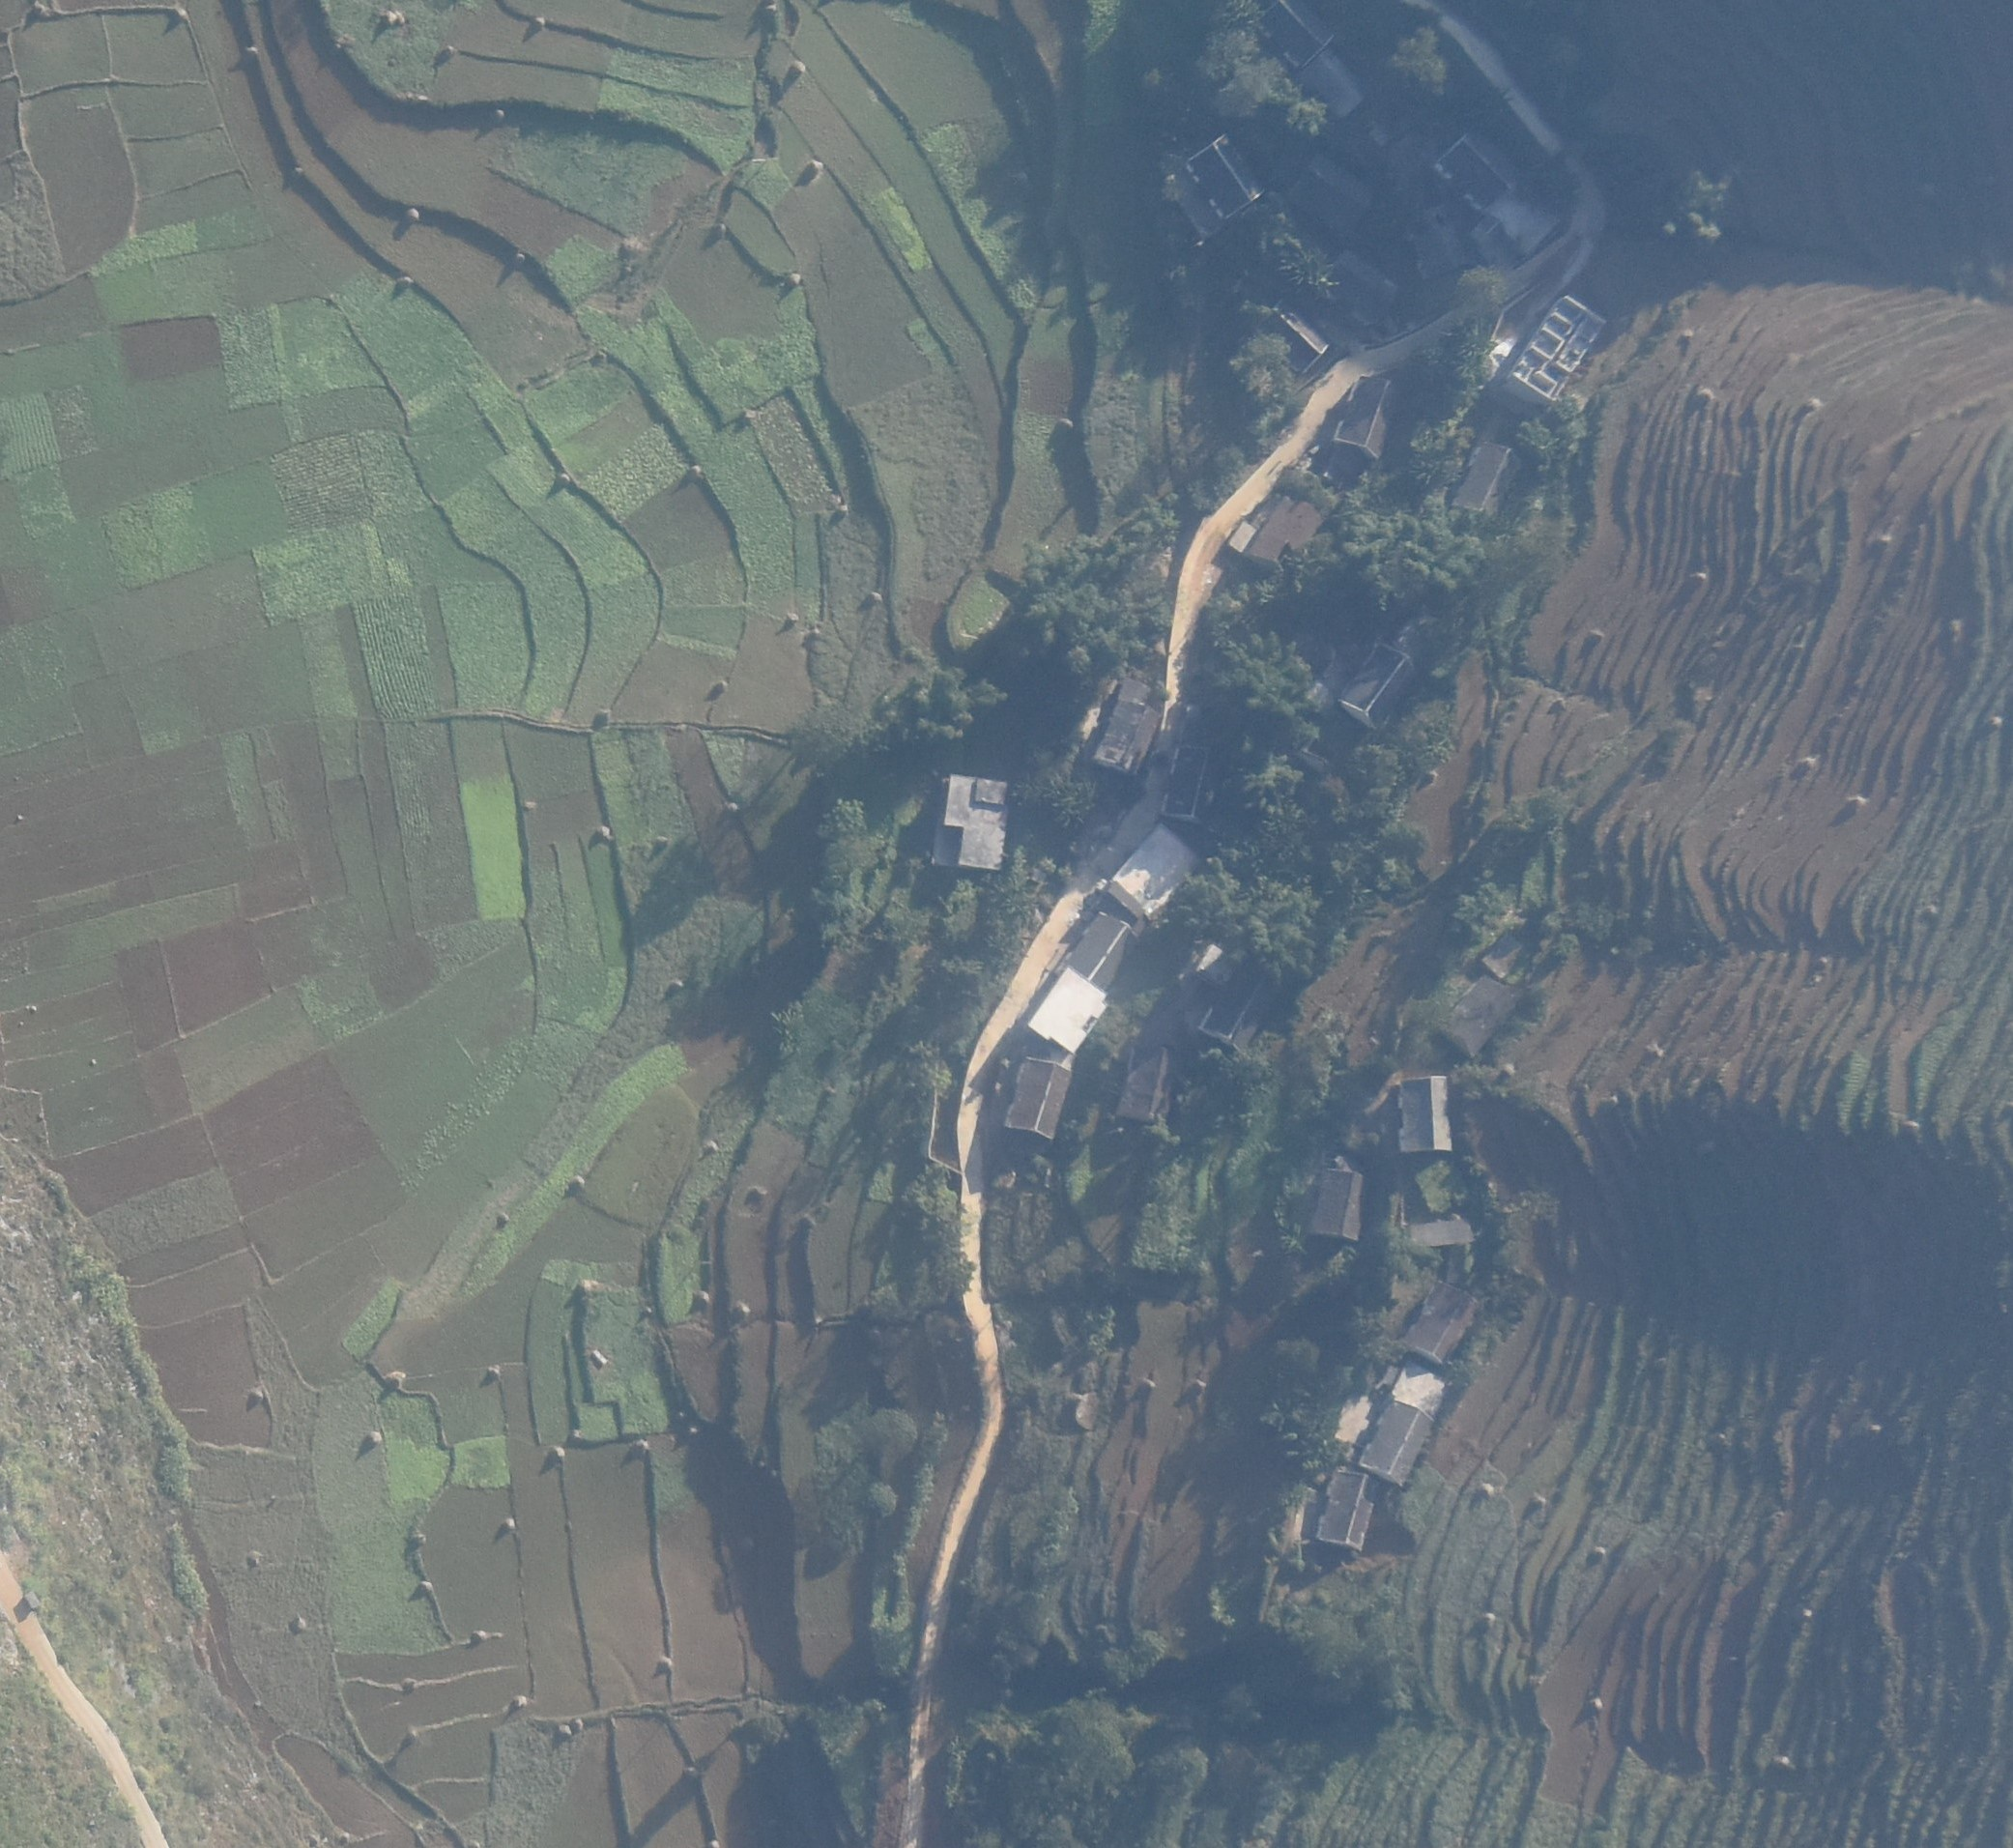building: (1511, 296, 1608, 399), (1114, 823, 1201, 915), (1198, 943, 1271, 1048), (1026, 968, 1108, 1054), (937, 772, 1006, 872), (1290, 153, 1372, 235), (1090, 677, 1158, 775), (1361, 1399, 1433, 1489), (1190, 134, 1268, 218), (1400, 1280, 1478, 1365), (1338, 642, 1415, 727), (1437, 130, 1516, 211), (1321, 248, 1400, 328), (1226, 497, 1324, 561), (1442, 974, 1514, 1059), (1293, 46, 1372, 123), (1069, 910, 1140, 994), (1335, 374, 1399, 461), (1256, 299, 1329, 376), (1003, 1058, 1071, 1141), (1118, 1044, 1182, 1125), (1317, 1468, 1377, 1553), (1453, 442, 1519, 518), (1264, 3, 1335, 68), (1399, 1074, 1456, 1153), (1308, 1169, 1367, 1242), (1162, 746, 1218, 819), (1480, 933, 1522, 980), (24, 1592, 42, 1610)
